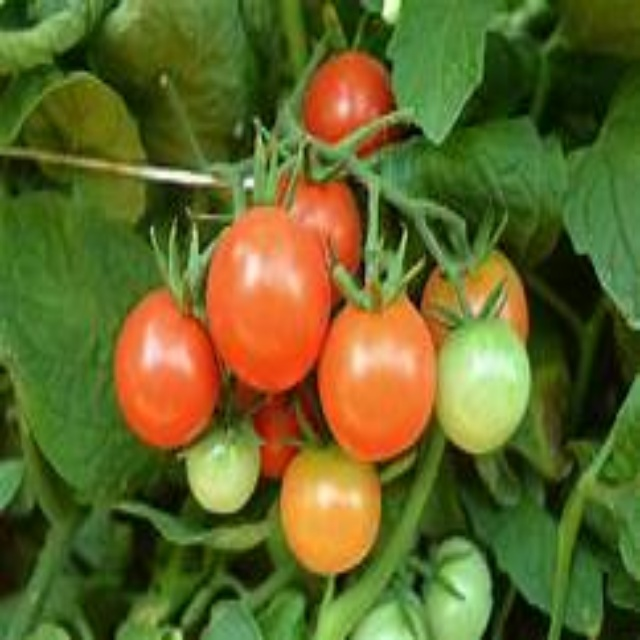tomato: (306, 294, 444, 451), (213, 214, 331, 391), (122, 289, 223, 442), (276, 438, 389, 571), (420, 244, 544, 355), (438, 329, 531, 451), (176, 428, 280, 534), (396, 539, 502, 633), (308, 54, 399, 161)
